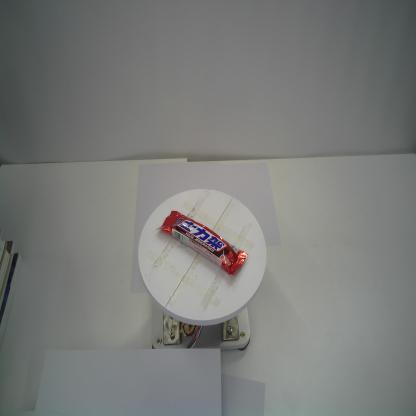Chocolate: (156, 210, 248, 276)
